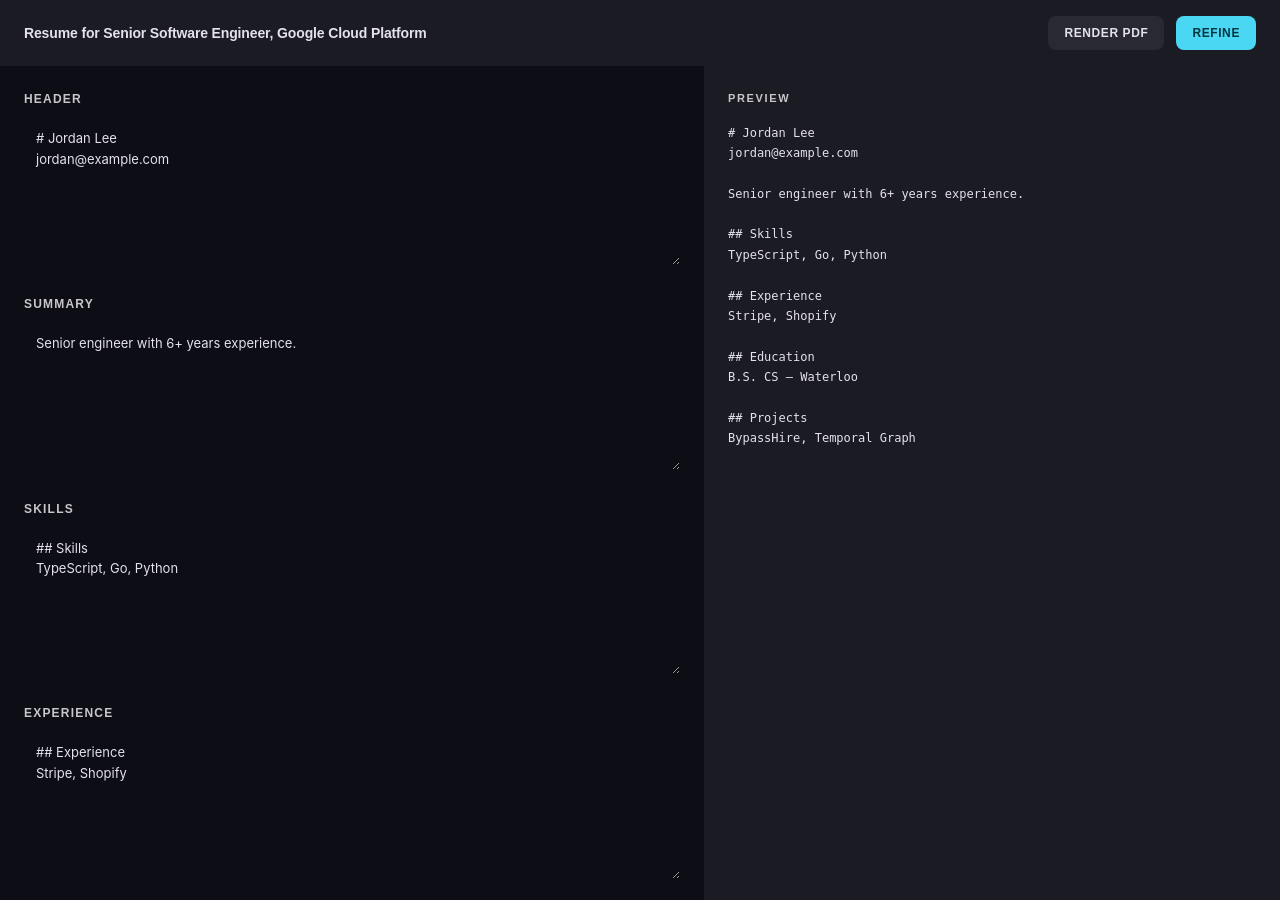
Test: TailorPage › Refine button opens the dialog
Expected: the text box labelled "Summary" is shown, [24,321,680,470]
Click the button "Refine" at coordinates (1216, 33), box [1176,16,1256,50]
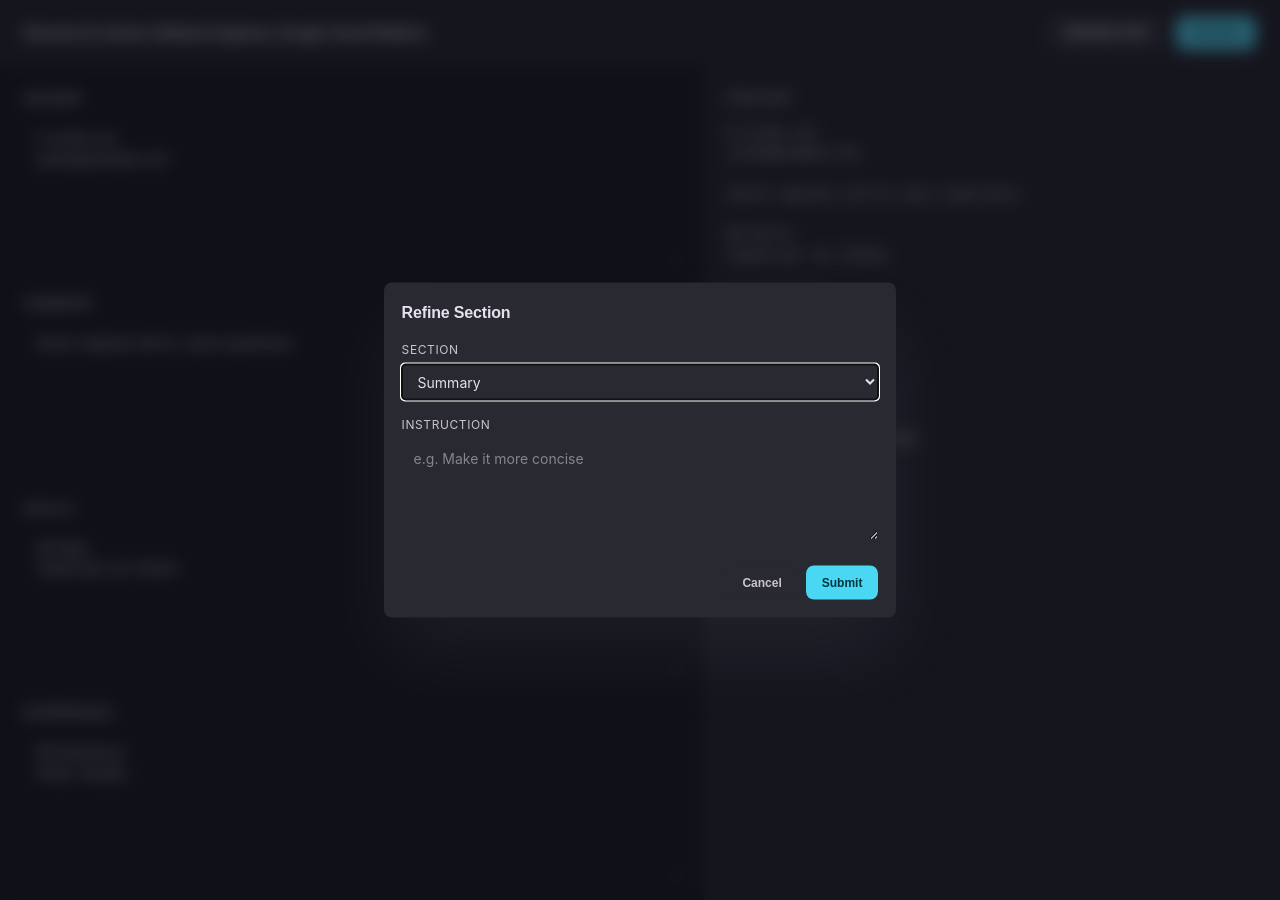
Result: the dialog is shown at [384,282,896,618]
Result: the dropdown is shown at [402,364,878,400]
